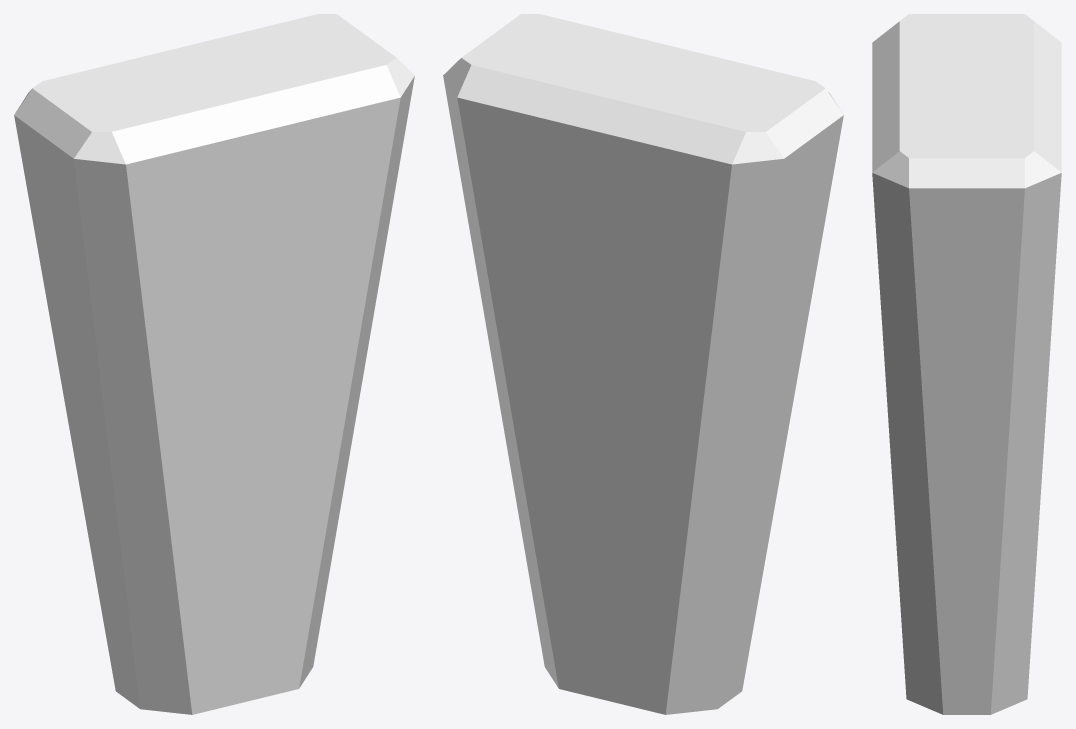
File: customer_body.fbx
3 renders of one model, left to right at view 1: azimuth 30°, elevation 25°; view 2: azimuth 150°, elevation 25°; view 3: azimuth 270°, elevation 25°, orthographic. The views are drawn at different scales.
Visible parts, largest first — view 1: customer_body; view 2: customer_body; view 3: customer_body.
Boxes of the visible parts, x1,y1,x2,y2 form: customer_body: [14, 14, 414, 714]; customer_body: [443, 14, 843, 714]; customer_body: [872, 14, 1061, 714].
Size of the model in its own units: 65.9 by 112 by 32.69.
